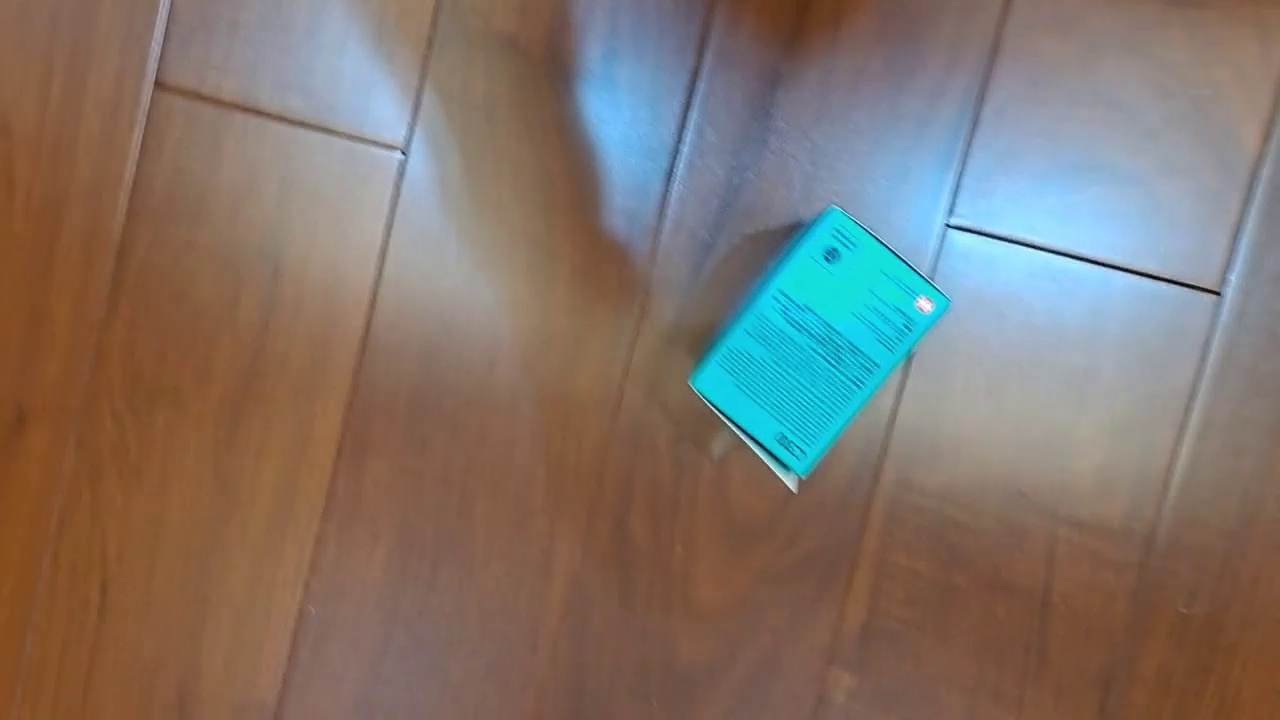webcam: (684, 202, 952, 496)
